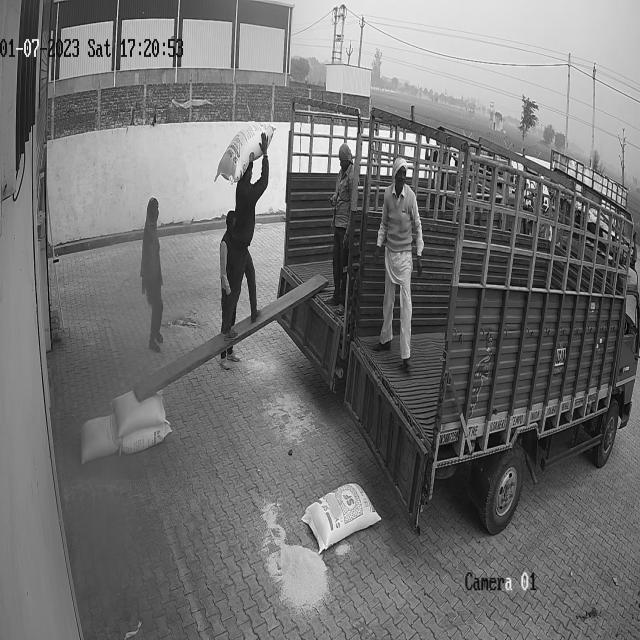sack: (302, 483, 382, 553), (213, 122, 274, 183), (109, 390, 165, 438), (79, 414, 119, 461), (120, 423, 171, 452)
